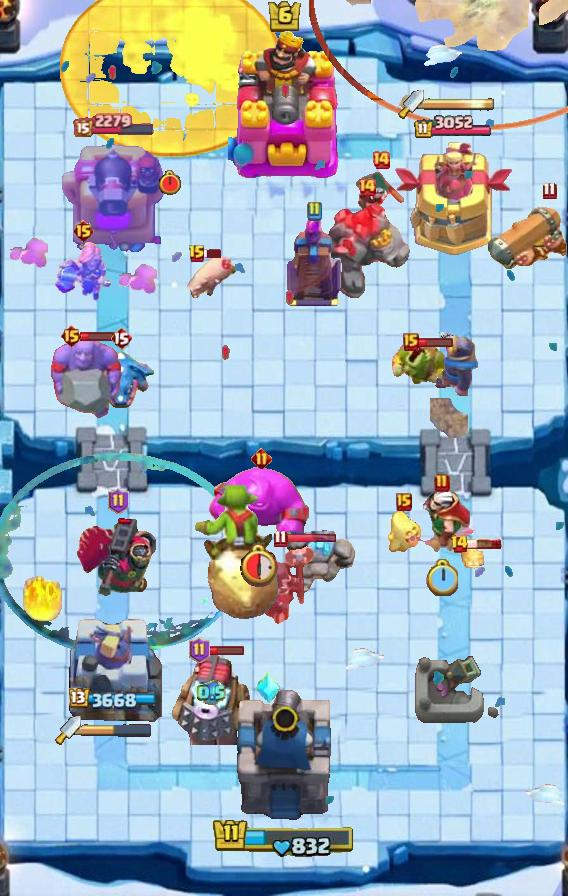archer-queen: (47, 338, 125, 420)
bar: (395, 142, 514, 256), (66, 611, 162, 731)
bat-evolution: (387, 509, 421, 553)
battle-healer: (488, 201, 568, 273)
cannoneer-tower: (321, 201, 413, 301)
clock: (212, 817, 356, 859)
clone: (207, 466, 315, 548)
electro-spirit: (197, 680, 226, 706)
elixir: (240, 541, 282, 587), (426, 559, 458, 596), (158, 170, 182, 196)
emote: (285, 532, 337, 543), (80, 330, 116, 342), (466, 538, 502, 550), (418, 336, 455, 347), (207, 644, 244, 655), (203, 248, 223, 259)
firecracker: (434, 331, 478, 397)
fisherman: (430, 398, 468, 438)
flying-machine: (391, 338, 449, 392)
giant: (183, 254, 239, 304)
golem: (169, 653, 253, 745)
graveyard: (85, 349, 157, 411)
ice-spirit-evolution: (461, 541, 487, 569)
ice-spirit-evolution-symbol: (284, 216, 344, 308)
inferno-tower: (74, 516, 162, 598)
king-tower: (228, 29, 340, 181), (232, 686, 336, 826)
king-tower-bar: (424, 97, 496, 111), (81, 723, 153, 737)
pad_0: (0, 453, 244, 659)
pad_2: (255, 672, 281, 704)
phoenix-egg: (58, 0, 282, 156)
rascal-boy: (261, 544, 317, 626)
royal-ghost: (309, 0, 568, 130)
selected: (69, 688, 159, 712), (72, 112, 155, 137), (413, 115, 493, 140)
skeleton-king: (405, 486, 479, 556)
tesla: (356, 170, 406, 228)
tesla-evolution: (53, 240, 113, 304)
text: (72, 219, 95, 243), (61, 324, 84, 348), (107, 488, 128, 514), (190, 637, 211, 663), (110, 326, 132, 350), (252, 448, 273, 469), (371, 150, 391, 170), (357, 177, 377, 197), (450, 534, 469, 554), (188, 244, 206, 264), (306, 201, 322, 221), (434, 473, 450, 493), (403, 333, 419, 351), (396, 493, 412, 511), (273, 528, 288, 547), (543, 181, 557, 200)
tower-bar: (60, 138, 168, 256)
valkyrie: (19, 572, 67, 624)
valkyrie-evolution: (287, 529, 359, 599)
x-bow: (191, 485, 281, 623)
